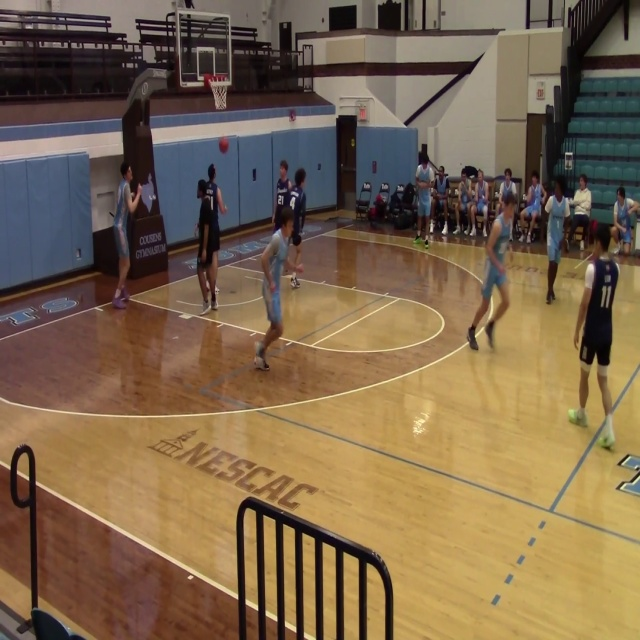Basketball: (218, 138, 229, 153), (568, 408, 577, 422), (295, 263, 304, 273)
